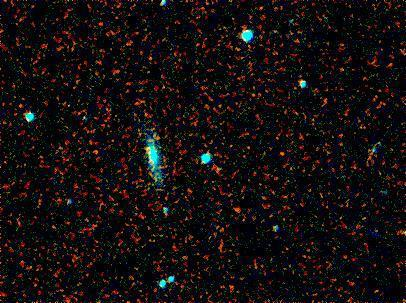star: (175, 177, 205, 207)
